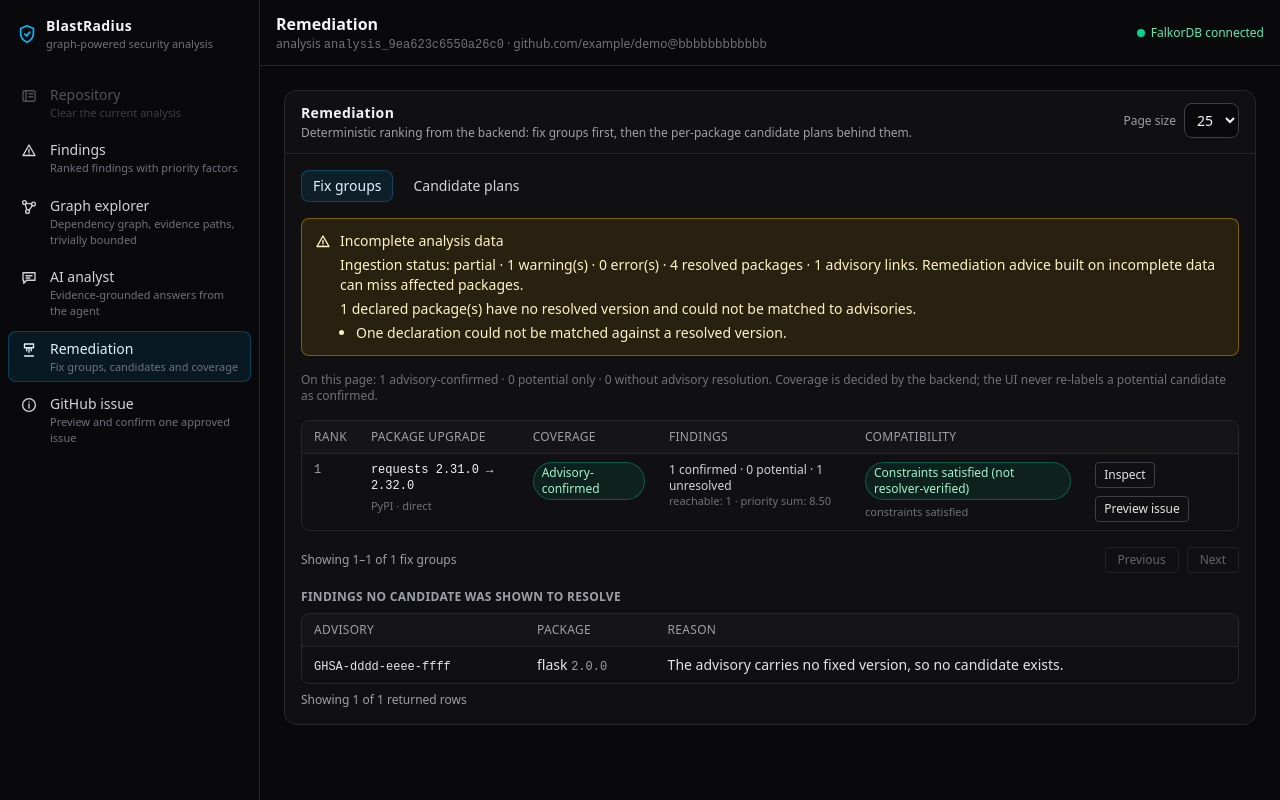
it: Screen E — remediation ranking › lists per-package candidate plans with explicit constraint outcomes
Check: the text "requests 2.31.0 → 2.32.0" is shown, box [371,462,509,494]
Click the tab "Candidate plans".
click(467, 186)  # box [402,170,532,202]
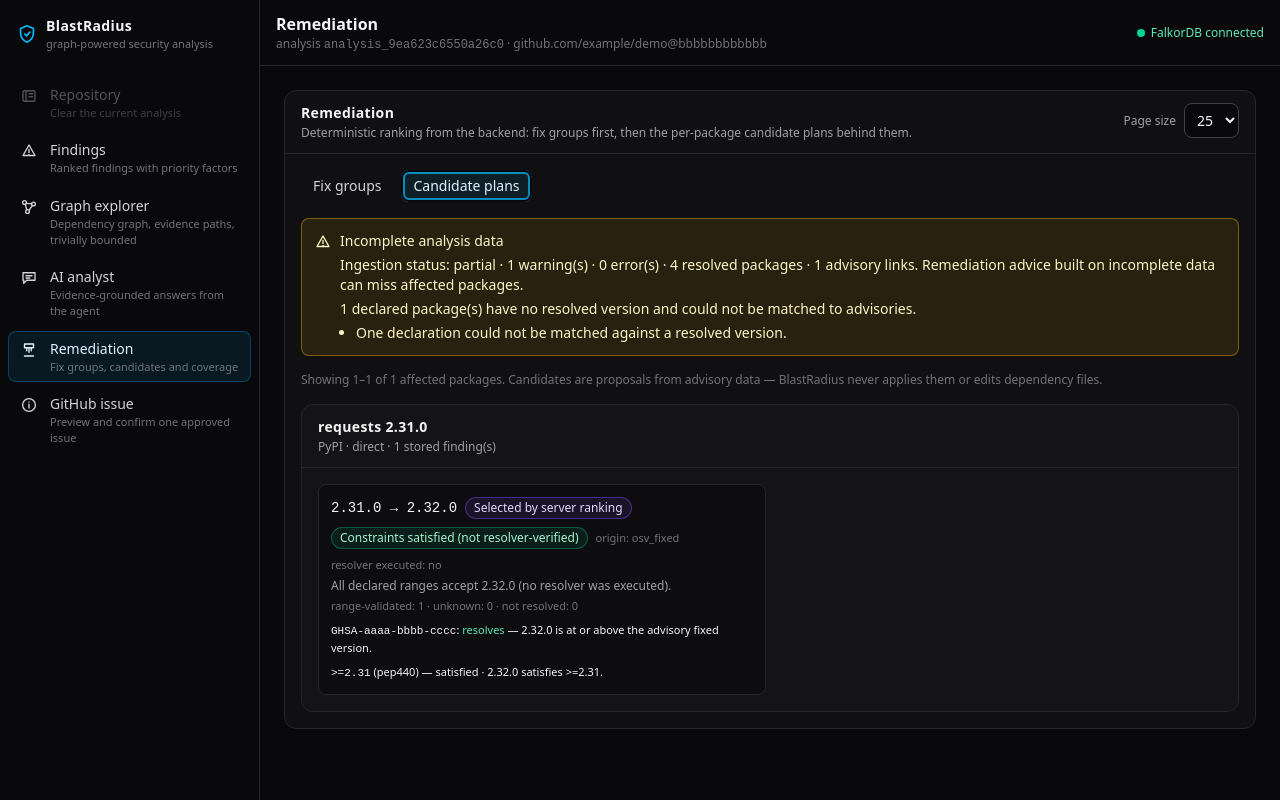
Check: the text "Selected by server ranking" is shown, box [465,497,632,519]
Check: the list item ">=2.31 (pep440) — satisfied · 2.32.0 satisfies >=2.31." is shown, box [331,664,603,679]
Check: the text "BlastRadius never applies them or edits dependency files" is shown, box [397,371,1103,388]
